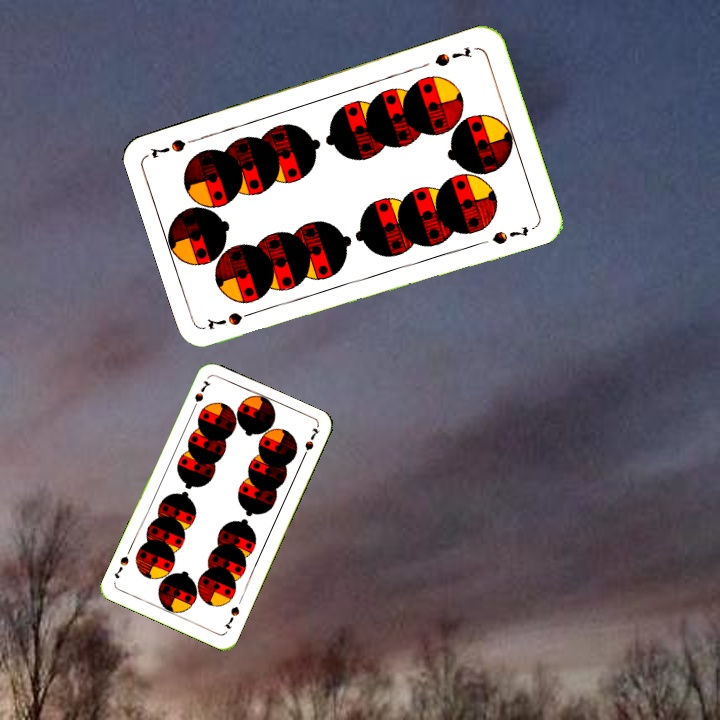S7: (203, 306, 261, 332), (430, 43, 475, 69), (188, 376, 213, 413), (220, 602, 242, 632)
